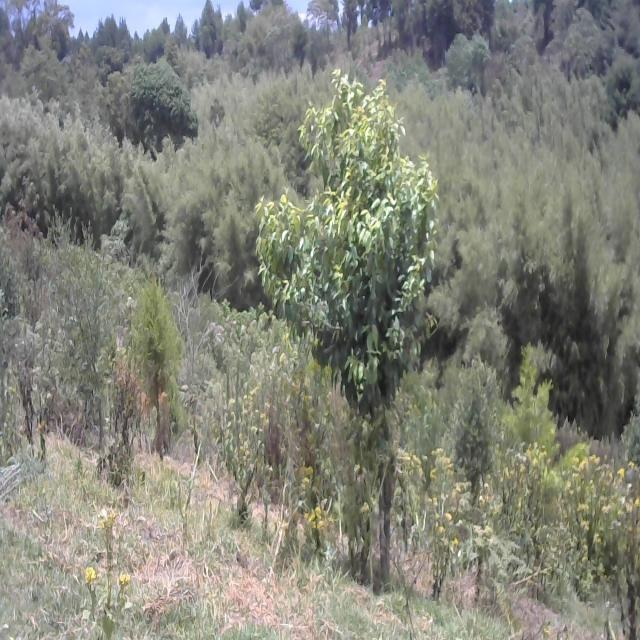Hass Avocado: (250, 48, 449, 516)
Podocarpus falcatus: (511, 349, 578, 494)
cedrus: (123, 263, 186, 445)
other: (49, 216, 114, 430), (124, 59, 200, 153)
